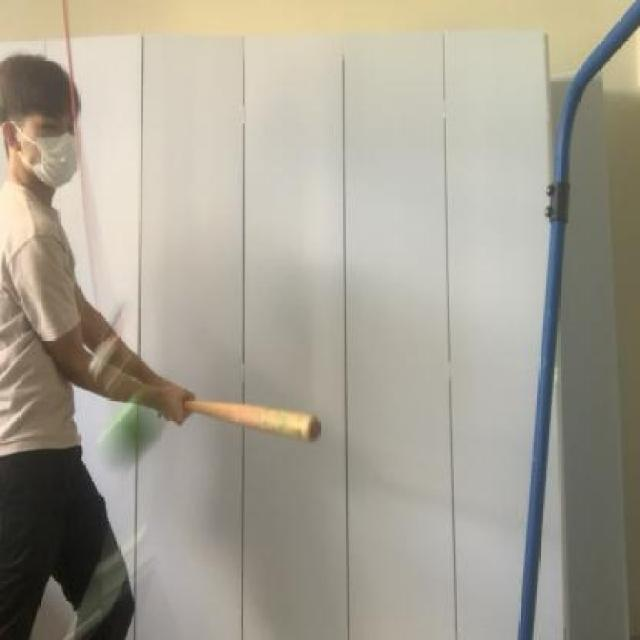baseball: (100, 368, 172, 478)
